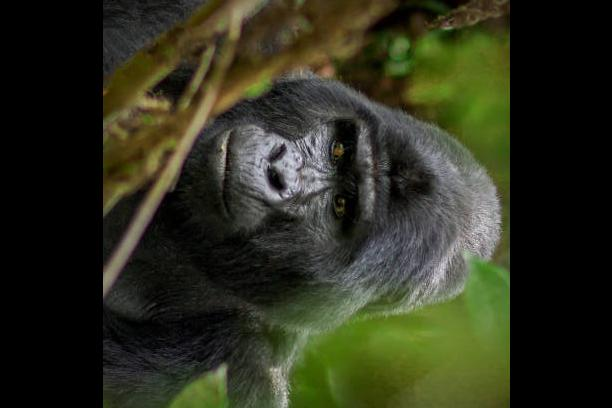goriile_montagne: (102, 0, 510, 385)
